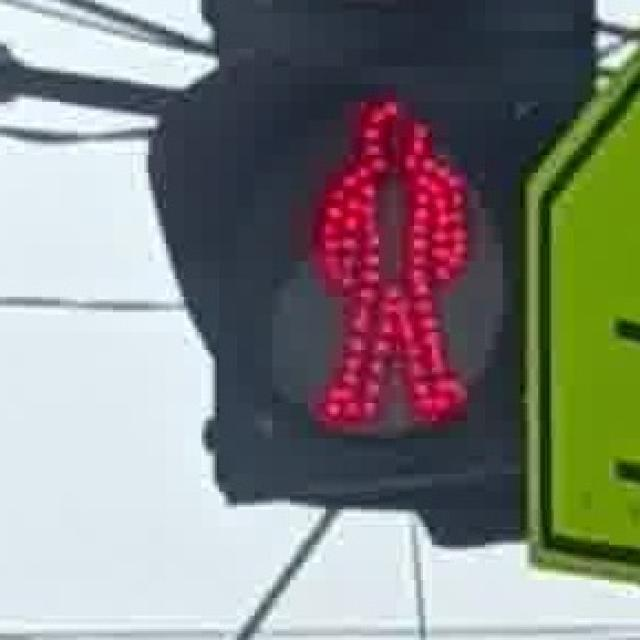red_light: (299, 76, 481, 437)
